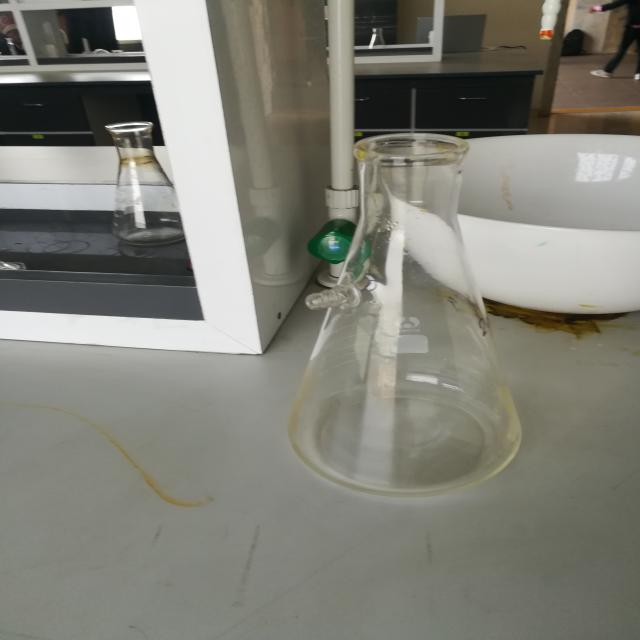Conical_Flask: (263, 86, 564, 521), (73, 105, 215, 262)
